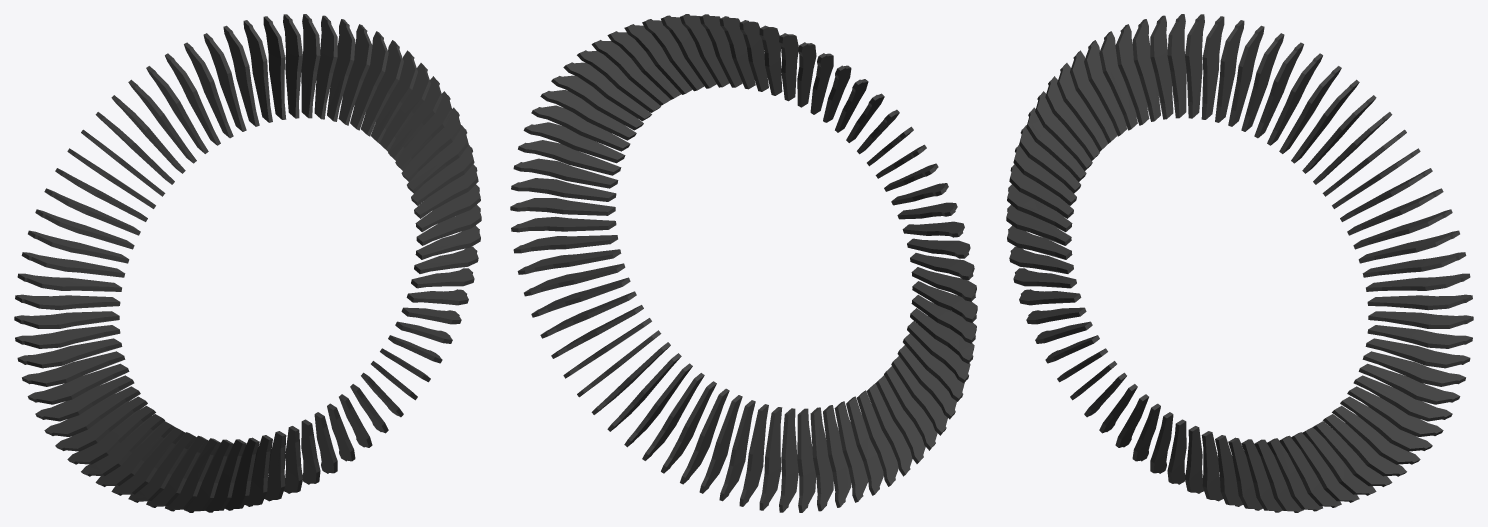
The model's file is Ciliary_processes.glb.
3 renders of one model, left to right at view 1: azimuth 30°, elevation 25°; view 2: azimuth 150°, elevation 25°; view 3: azimuth 330°, elevation 25°, orthographic.
Parts seen in each view (by area): view 1: Ciliary_processes; view 2: Ciliary_processes; view 3: Ciliary_processes.
Boxes of the visible parts, left/top/right/bottom form: Ciliary_processes: left=14, top=14, right=481, bottom=512; Ciliary_processes: left=510, top=14, right=977, bottom=512; Ciliary_processes: left=1006, top=14, right=1473, bottom=512.
Size of the model in its own units: 1.79 by 1.79 by 0.1733.
Materials: 1 (1 with a texture image).
